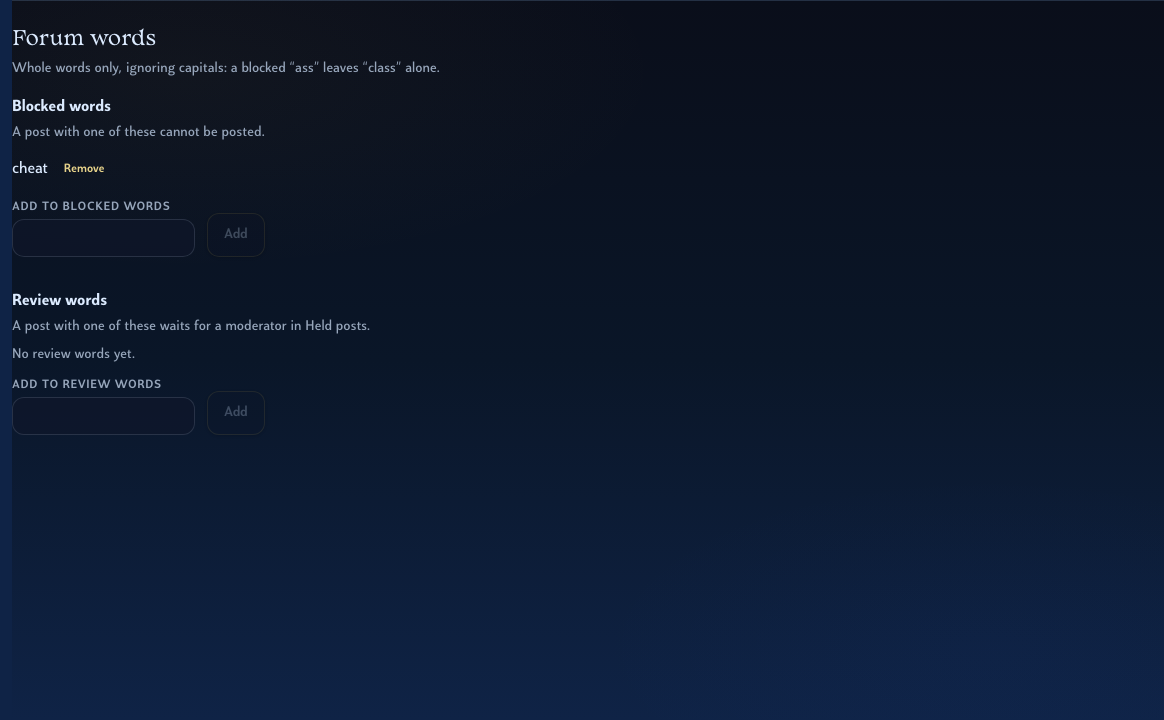
Test: StaffForumWords › says so beside the control when the word is already listed
Type "cheat" into the field labelled "Add to blocked words" at (104, 238), box [12,219,195,257]
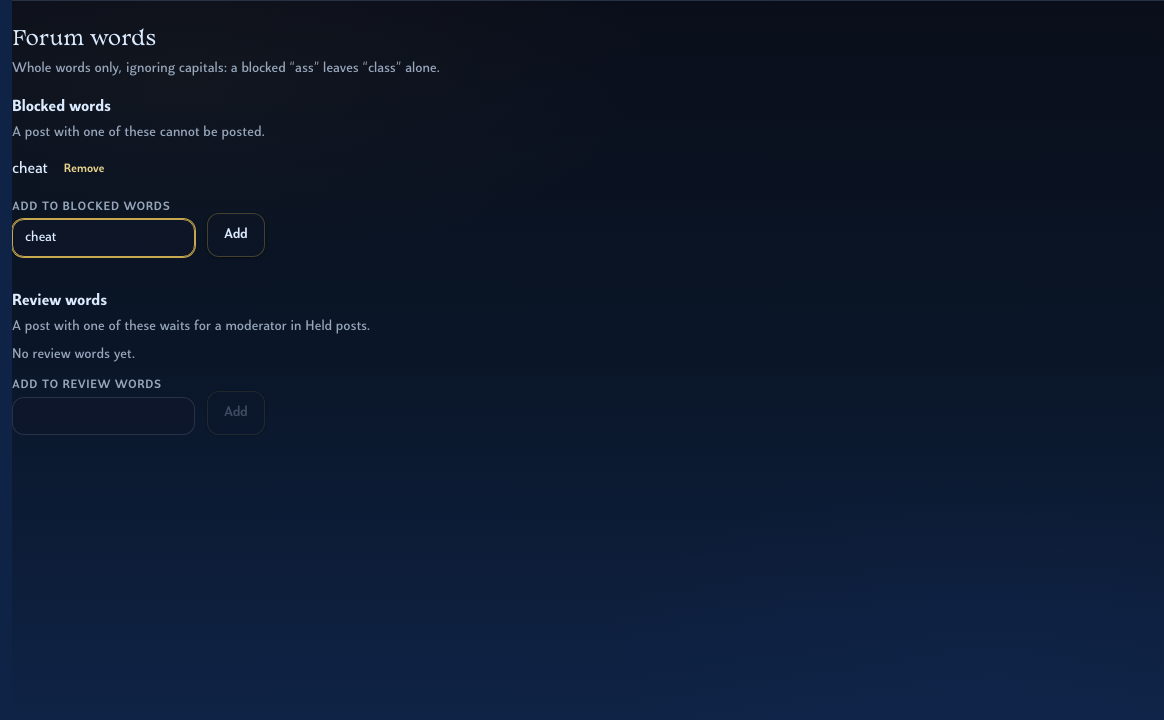
Click the button "Add" below "Add to blocked words" at (236, 235), box [207,213,265,257]
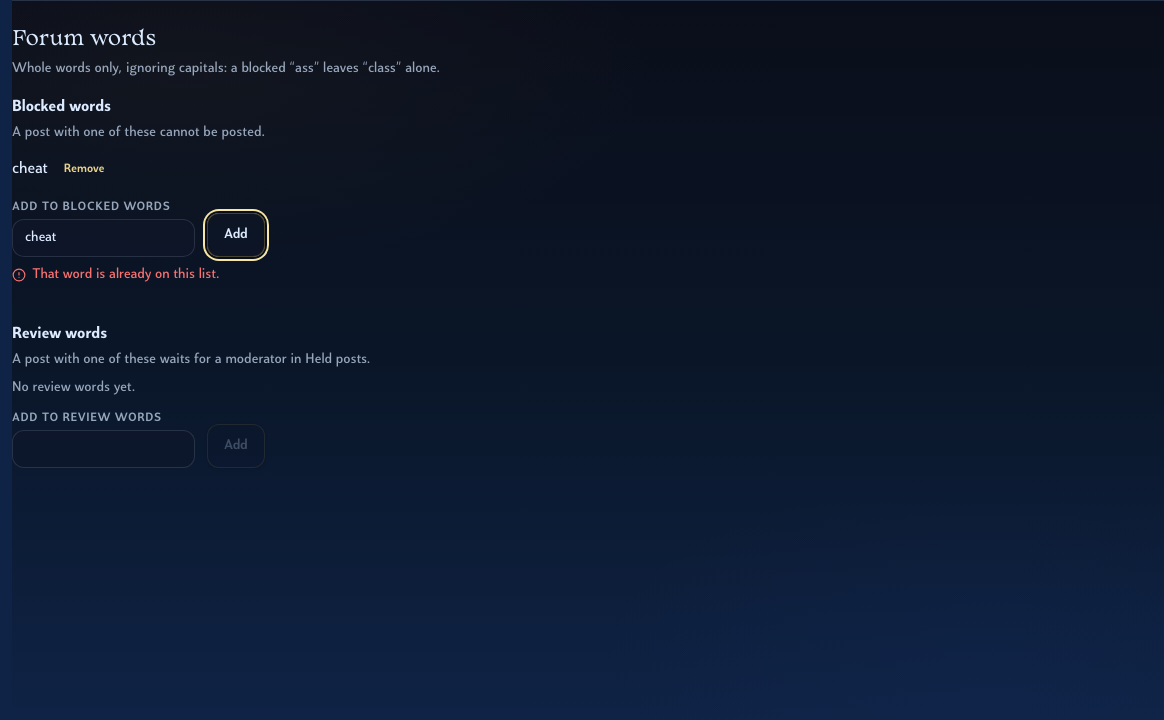
Expected: the text "That word is already on this list." is shown, [32,265,220,285]
